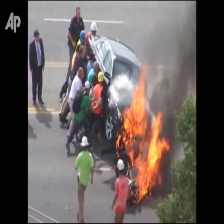fire_h: (122, 62, 169, 201)
fire_l: (115, 134, 121, 151), (115, 150, 119, 157), (126, 161, 130, 167)
